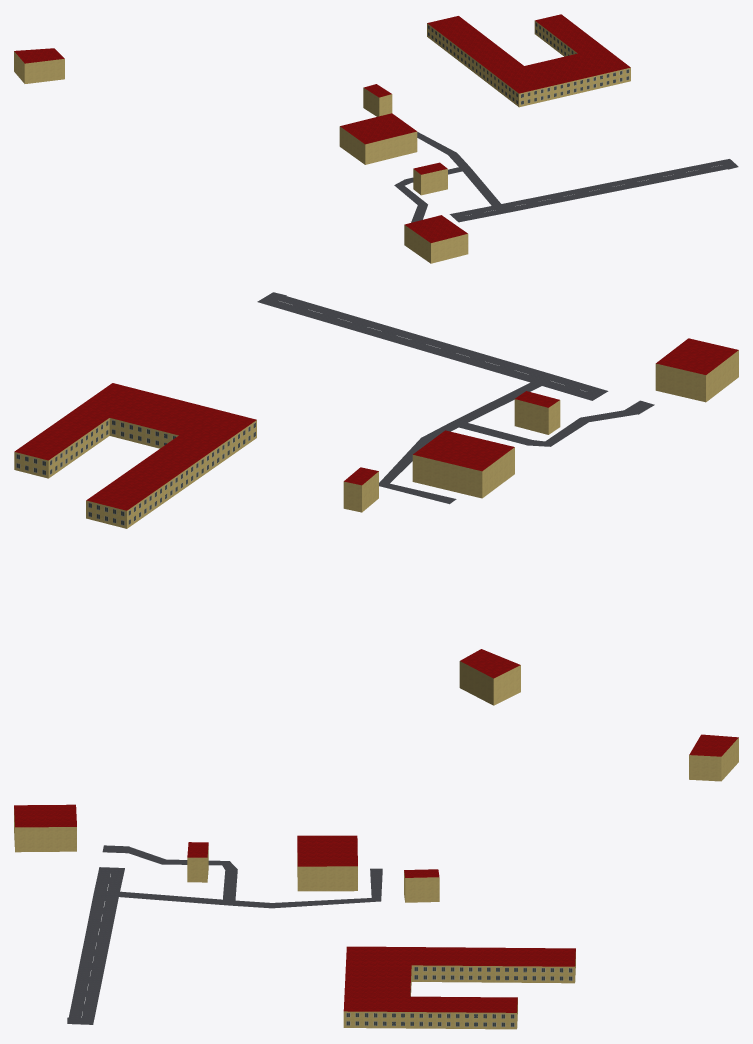
The model's file is district_-2_-2.glb.
3 renders of one model, top to bottom at view 1: azimuth 30°, elevation 25°; view 2: azimuth 150°, elevation 25°; view 3: azimuth 270°, elevation 25°, orthographic. The views are drawn at different scales.
Parts seen in each view (by area): view 1: Building w343486621, Building w44036620, Road Карачинская улица, Building w44036559, Building w625328554, Building w474770240, Road w474770241, Building w474770239, Road w1180940731; view 2: Building w343486621, Building w44036620, Road Карачинская улица, Building w44036559, Building w625328554, Road w474770241, Building w474770240, Building w474770239, Road w1180940731; view 3: Building w343486621, Road Карачинская улица, Building w44036620, Building w44036559, Building w625328554, Road w474770241, Building w474770239, Road w1180940731, Building w474770240.
Boxes of the visible parts, x1,y1,x2,y2 form: Building w343486621: (427, 14, 630, 107); Building w44036620: (339, 113, 417, 164); Road Карачинская улица: (461, 161, 727, 220); Building w44036559: (404, 215, 468, 263); Building w625328554: (14, 48, 64, 83); Building w474770240: (413, 162, 447, 195); Road w474770241: (417, 132, 500, 205); Building w474770239: (363, 84, 392, 116); Road w1180940731: (394, 167, 462, 219); Building w343486621: (14, 383, 256, 528); Building w44036620: (412, 430, 514, 498); Road Карачинская улица: (270, 296, 595, 396); Building w44036559: (655, 338, 738, 402); Building w625328554: (459, 649, 520, 705); Road w474770241: (379, 382, 540, 504); Building w474770240: (514, 391, 560, 434); Building w474770239: (343, 467, 378, 512); Road w1180940731: (461, 410, 628, 446); Building w343486621: (343, 946, 575, 1029); Road Карачинская улица: (68, 873, 123, 1018); Building w44036620: (297, 835, 357, 891); Building w44036559: (14, 804, 76, 852); Building w625328554: (689, 734, 738, 781); Road w474770241: (119, 868, 382, 908); Building w474770239: (404, 869, 439, 902); Road w1180940731: (128, 849, 237, 899); Building w474770240: (187, 842, 208, 882).
Size of the model in its own units: 176 by 7.5 by 199.
Materials: 5 (5 with a texture image).
